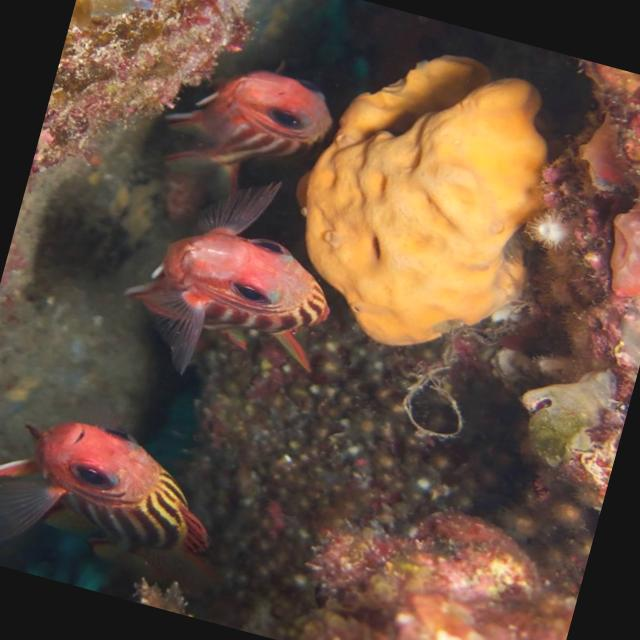Asker Baligi: (74, 194, 363, 420), (0, 380, 271, 612), (117, 36, 356, 214)
